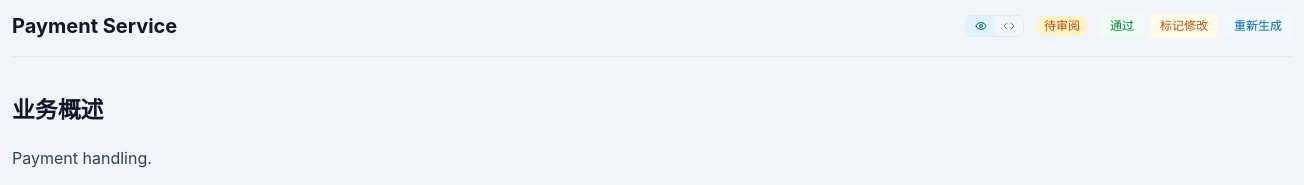
Scenario: WikiTopicContent › shows inline notes input for 标记修改 and submits on Enter
The image size is (1304, 185).
Click the button "标记修改": (1184,26) top-left (1150, 14), bottom-right (1218, 38)
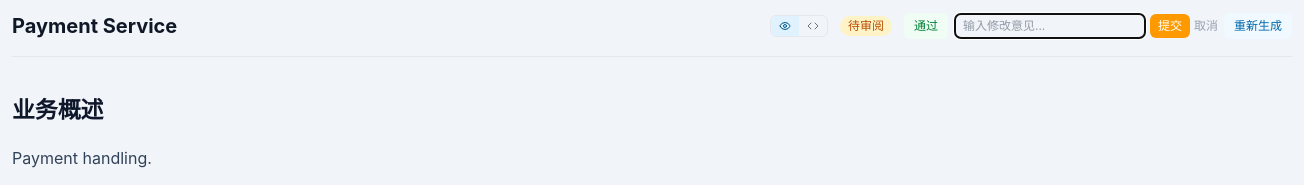
Now the field with placeholder "输入修改意见..." is shown
In the field with placeholder "输入修改意见...": (1050,26) top-left (954, 13), bottom-right (1146, 39), type "Fix the intro"
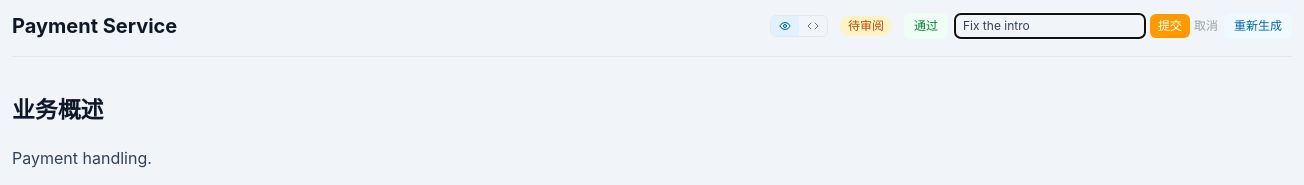
Press Enter in the field with placeholder "输入修改意见...", box top-left (954, 13), bottom-right (1146, 39)
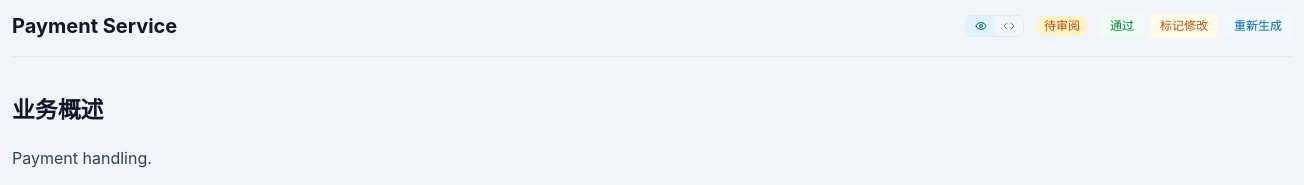
Now the button "标记修改" is shown, box top-left (1150, 14), bottom-right (1218, 38)
